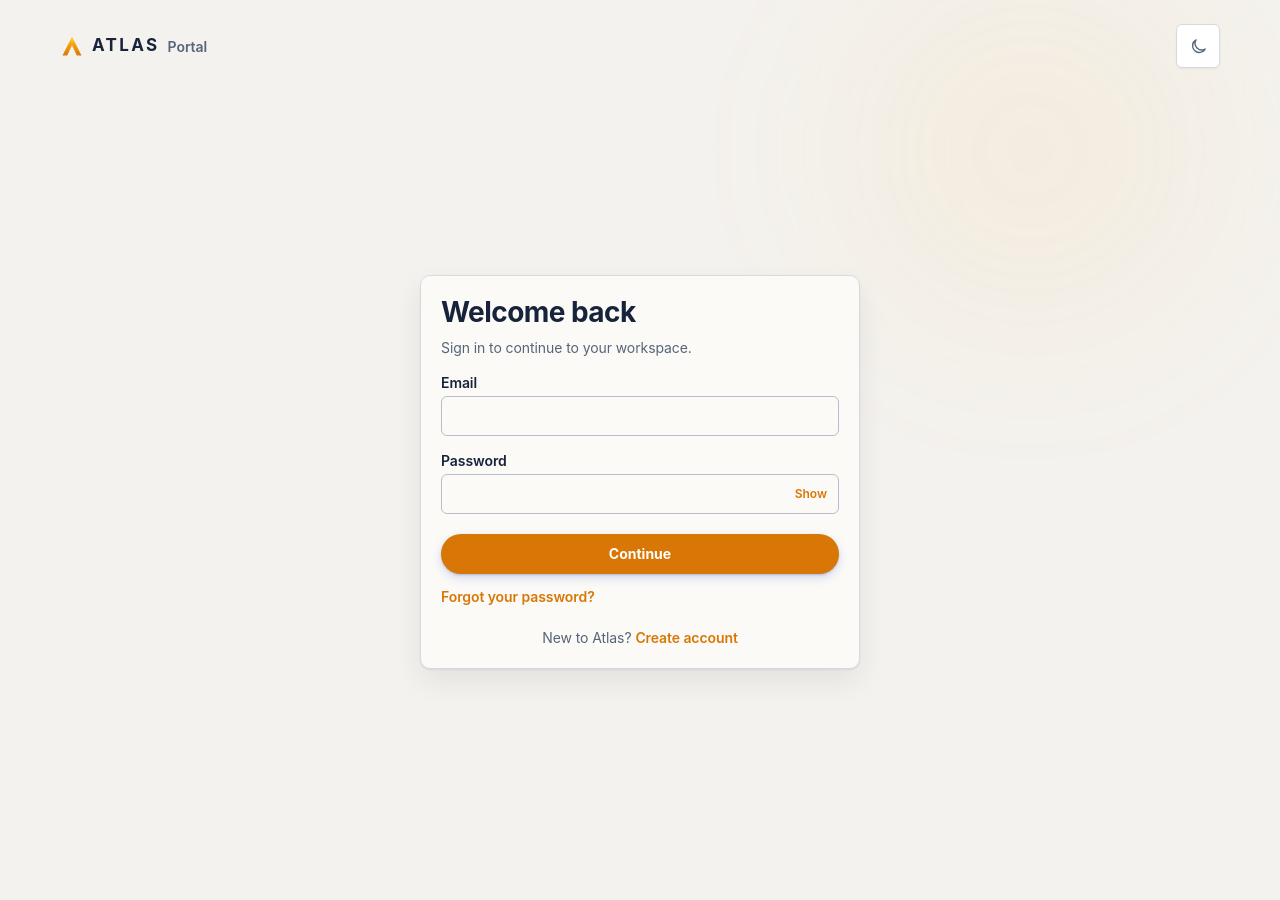
Test: guided sign in keeps invalid-credential mapping
The image size is (1280, 900).
expect the heading "Welcome back" is shown: met, box [441,294,636,328]
Type "customer@example.test" into the field labelled "Email". click: (640, 416)
box: [441,396,839,436]
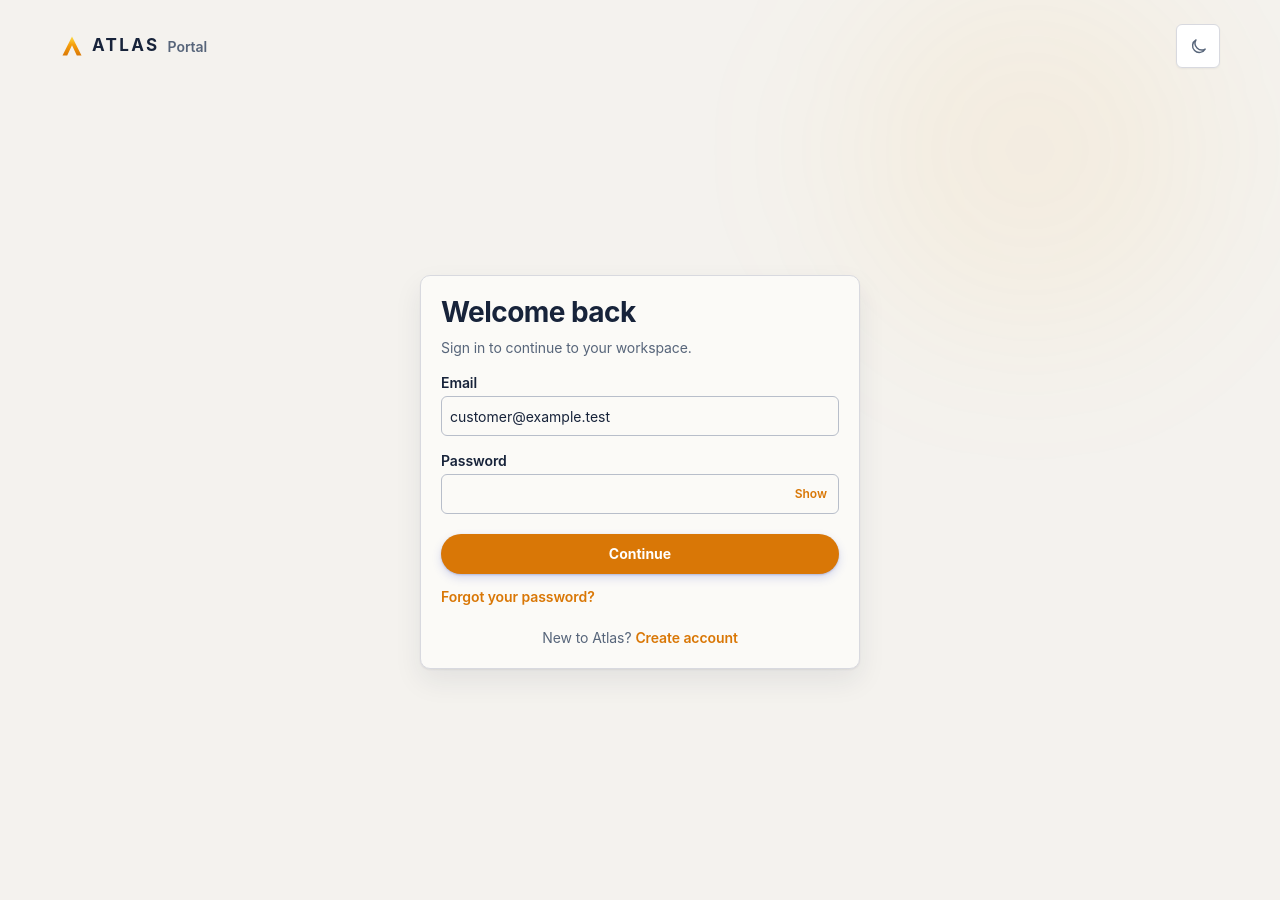
Type "incorrect password" into the password field labelled "Password". click: (640, 494)
box: [441,474,839,514]
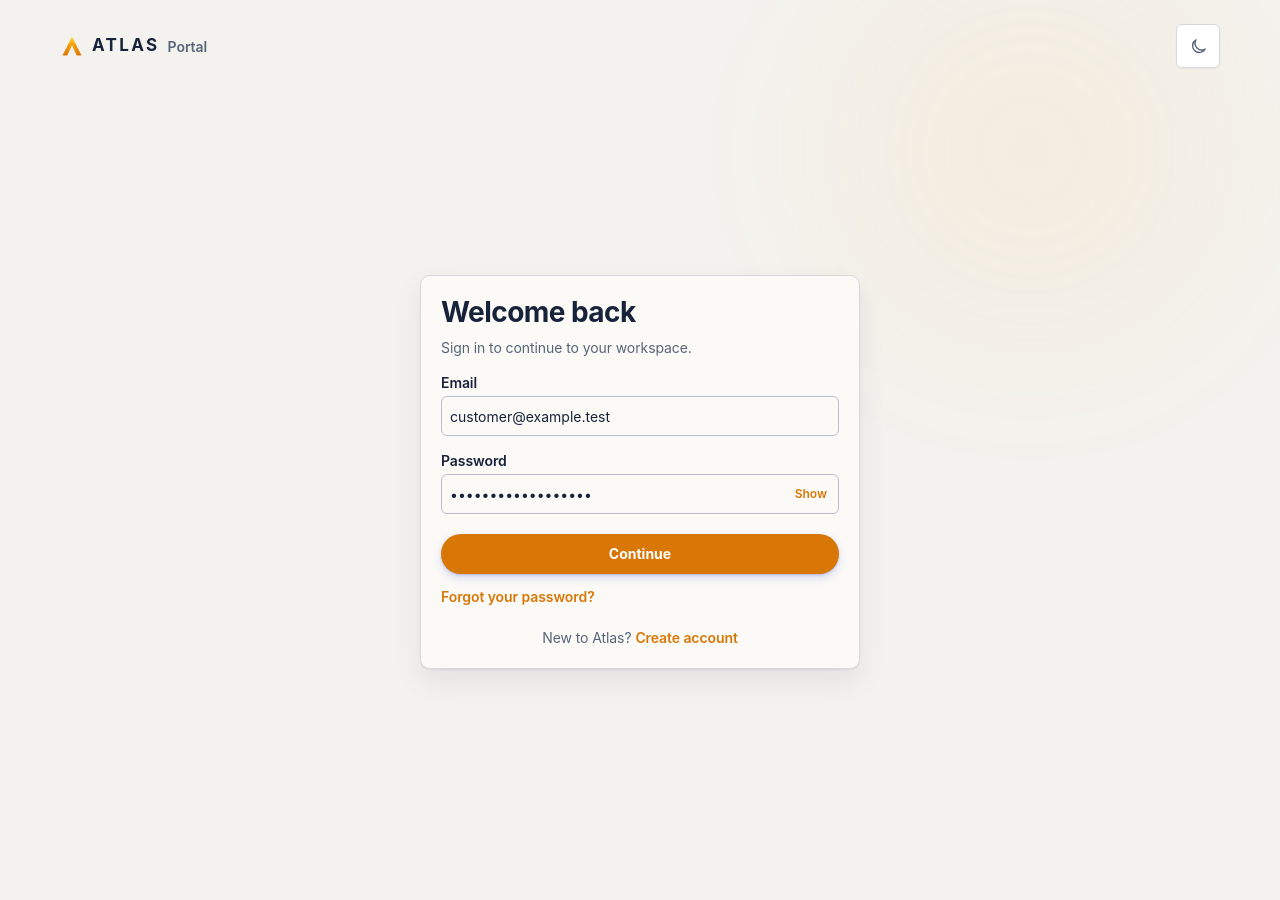
Click the button "Continue". click: (640, 554)
box: [441,534,839,574]
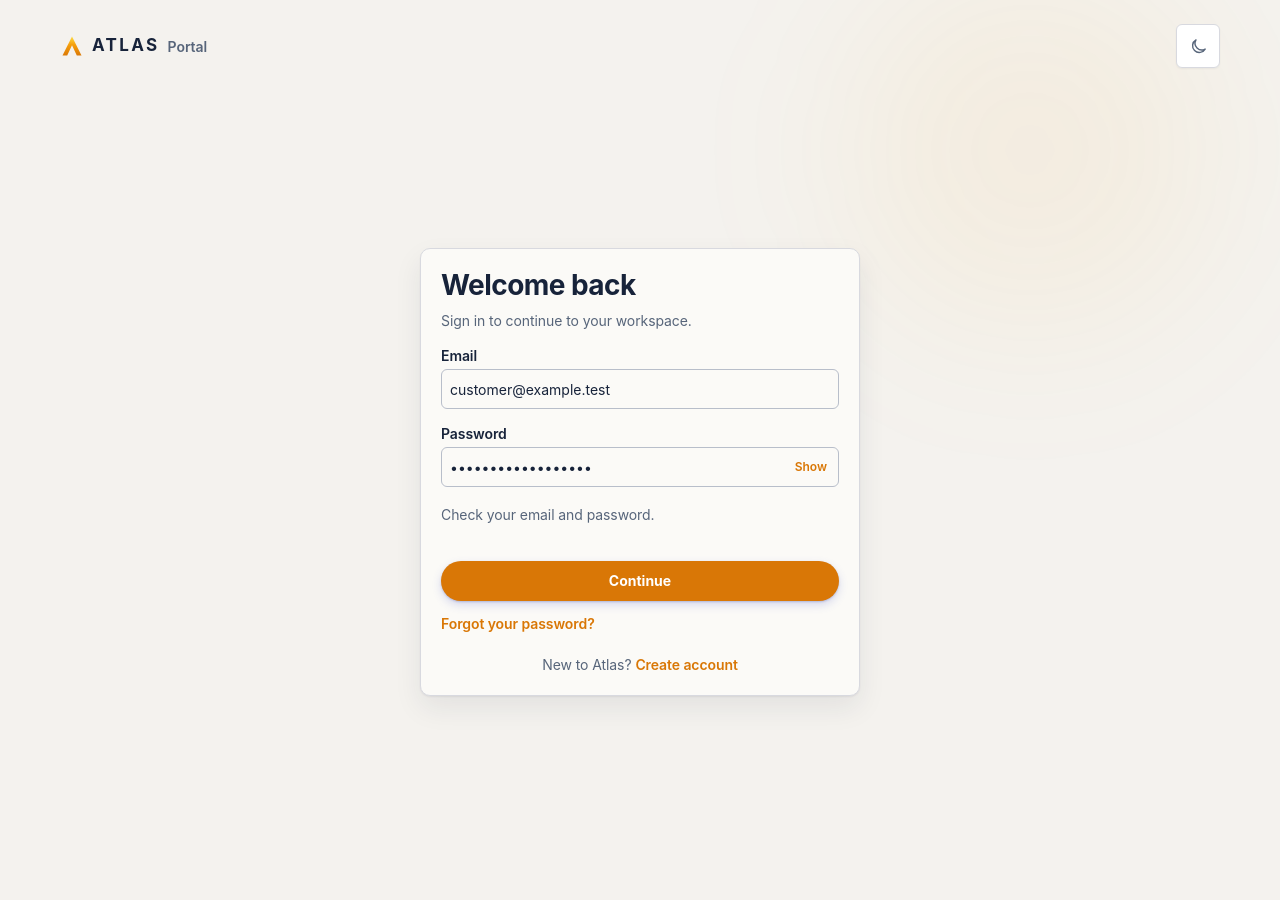
expect the message reads "Check your email and password.": met, box [441,506,654,523]
